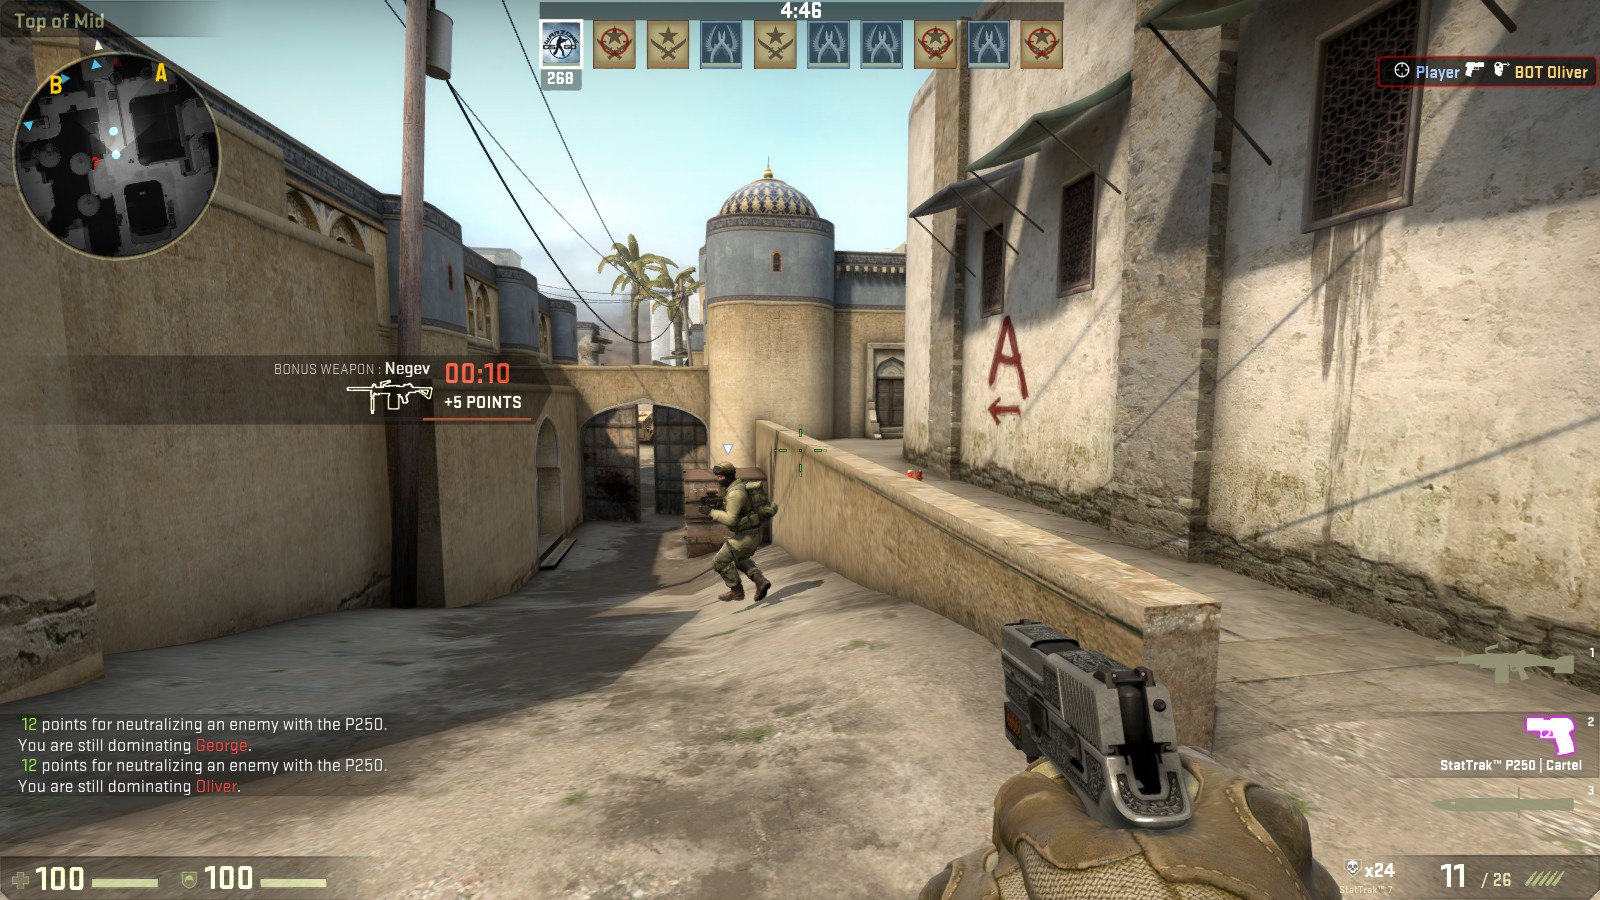c: (704, 460, 769, 601)
ch: (715, 460, 738, 490)
